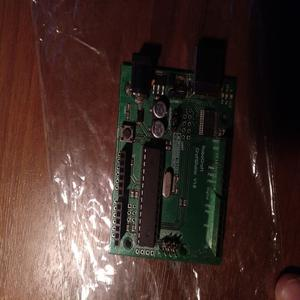duino: (116, 42, 237, 260)
